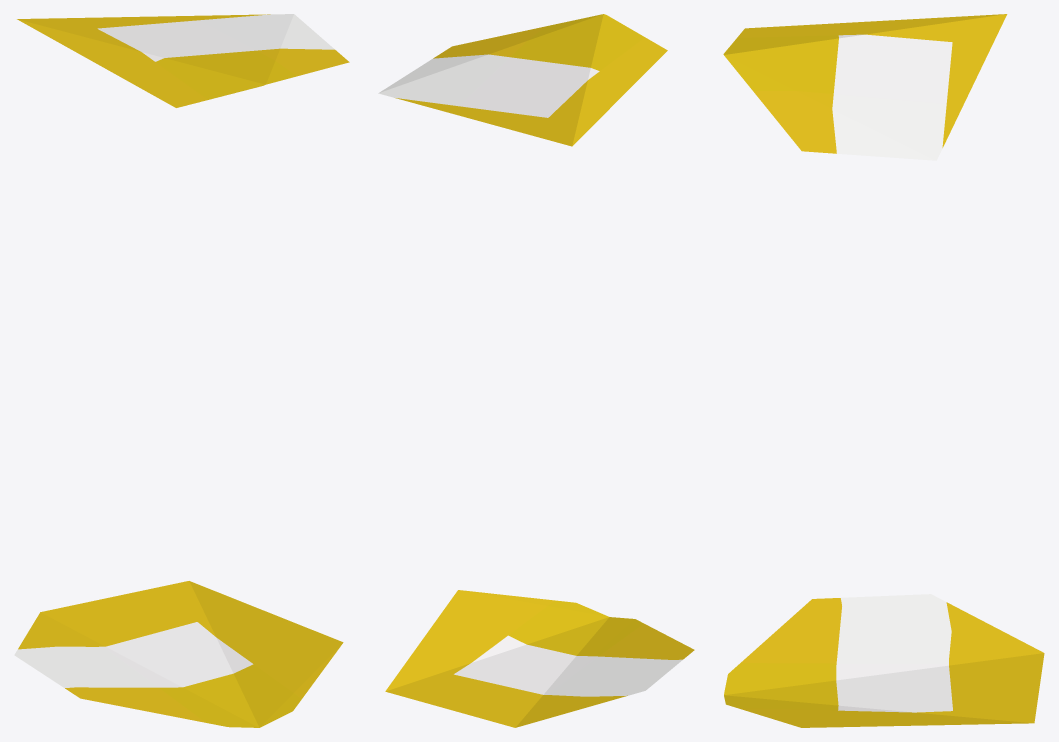
Rendered from mp-0072-geode.glb.
3 renders of one model, left to right at view 1: azimuth 30°, elevation 25°; view 2: azimuth 150°, elevation 25°; view 3: azimuth 270°, elevation 25°, orthographic. The views are drawn at different scales.
Parts seen in each view (by area): view 1: Node; view 2: Node; view 3: Node.
Part boxes in pixels (x1,y1,x2,y2): Node: (14, 14, 349, 727); Node: (378, 14, 694, 727); Node: (723, 14, 1044, 727).
Bounding box in the file's own units: 0.145 × 0.3145 × 0.1423.
1 material, 1 textured.
